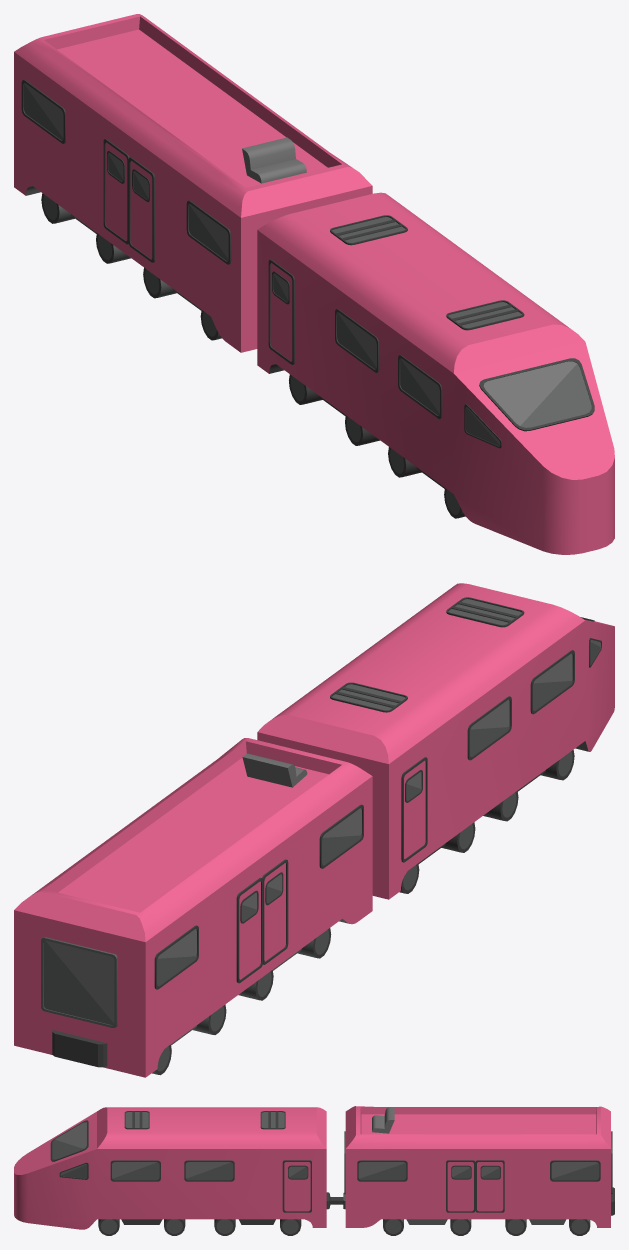
Rendered from Train.fbx.
The picture shows the model from 3 angles, top to bottom: view 1: azimuth 30°, elevation 25°; view 2: azimuth 150°, elevation 25°; view 3: azimuth 270°, elevation 25°; orthographic projection. The views are drawn at different scales.
Parts seen in each view (by area): view 1: RedTrain Engine, RedTrain_Boggy, RedTrain_DoorRight, RedTrain_DoorLeft, RedTrain_Seat; view 2: RedTrain_Boggy, RedTrain Engine, RedTrain_DoorLeft, RedTrain_DoorRight, RedTrain_Seat; view 3: RedTrain Engine, RedTrain_Boggy, RedTrain_Seat.
Boxes of the visible parts, left/top/right/bottom form: RedTrain Engine: left=257, top=192, right=614, bottom=554; RedTrain_Boggy: left=14, top=14, right=372, bottom=352; RedTrain_DoorRight: left=128, top=157, right=154, bottom=262; RedTrain_DoorLeft: left=103, top=139, right=129, bottom=244; RedTrain_Seat: left=242, top=137, right=306, bottom=183; RedTrain_Boggy: left=14, top=738, right=372, bottom=1077; RedTrain Engine: left=257, top=583, right=614, bottom=899; RedTrain_DoorLeft: left=236, top=877, right=262, bottom=983; RedTrain_DoorRight: left=262, top=859, right=288, bottom=964; RedTrain_Seat: left=242, top=753, right=307, bottom=787; RedTrain Engine: left=14, top=1107, right=343, bottom=1235; RedTrain_Boggy: left=343, top=1106, right=614, bottom=1235; RedTrain_Seat: left=372, top=1107, right=394, bottom=1133.
Bounding box in the file's own units: 2.05 × 2.65 × 13.58.
